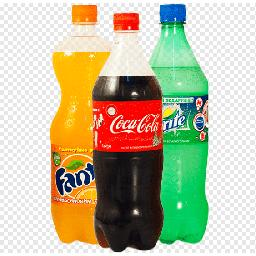plastic: (86, 9, 172, 256), (29, 2, 108, 256), (147, 0, 217, 236)
